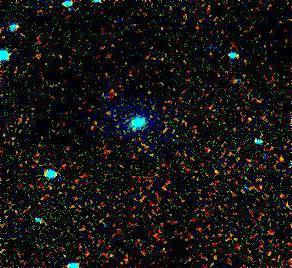star: (101, 75, 131, 105)
